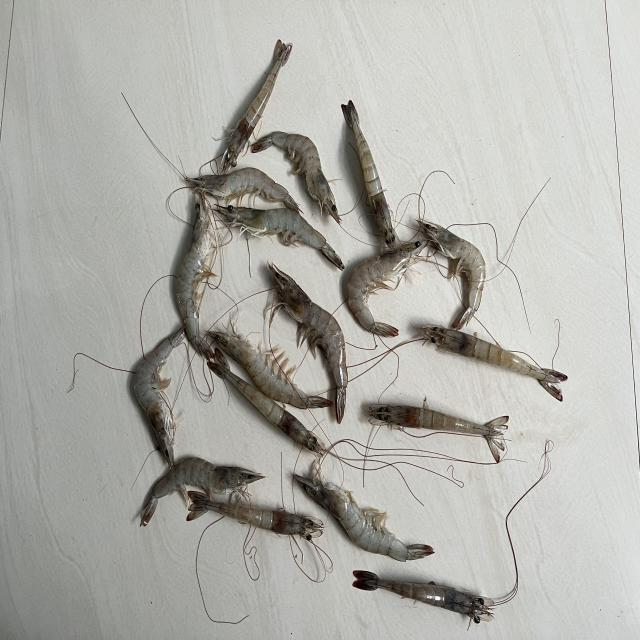shrimp: (294, 460, 434, 562), (267, 263, 348, 423), (422, 324, 568, 401), (220, 38, 292, 173), (217, 367, 326, 456), (208, 331, 332, 409), (342, 99, 401, 249), (353, 571, 511, 625), (215, 204, 344, 270), (140, 457, 263, 526), (250, 130, 341, 223), (367, 403, 509, 462), (347, 240, 427, 336), (418, 220, 486, 330), (133, 326, 185, 469), (186, 491, 324, 541), (176, 194, 217, 359), (185, 166, 300, 211)
